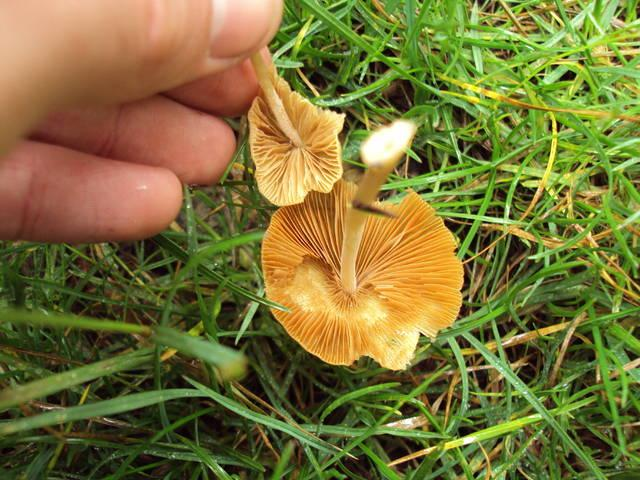edible_mushroom: (259, 176, 464, 371), (235, 79, 358, 213)
